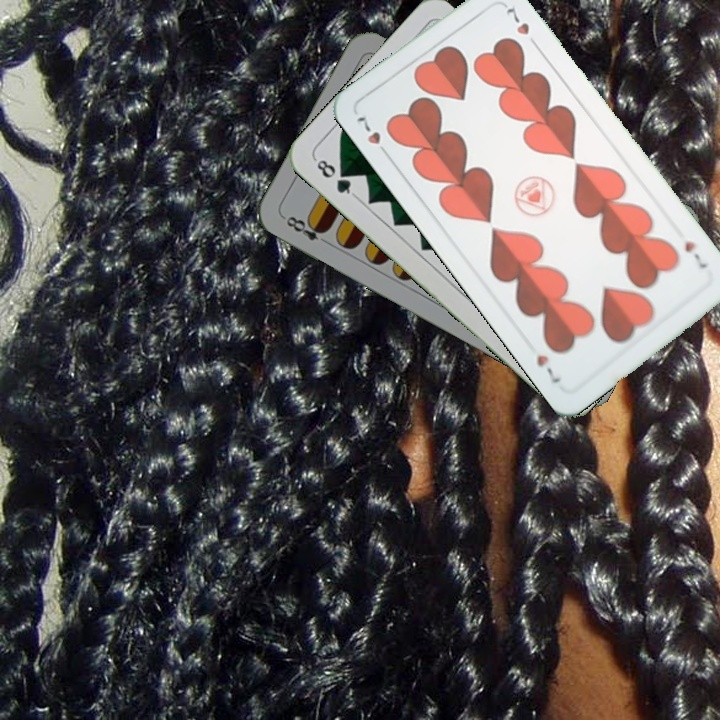E8: (279, 211, 333, 248)
G8: (310, 154, 358, 199)
H7: (352, 110, 393, 161), (680, 237, 711, 271)
